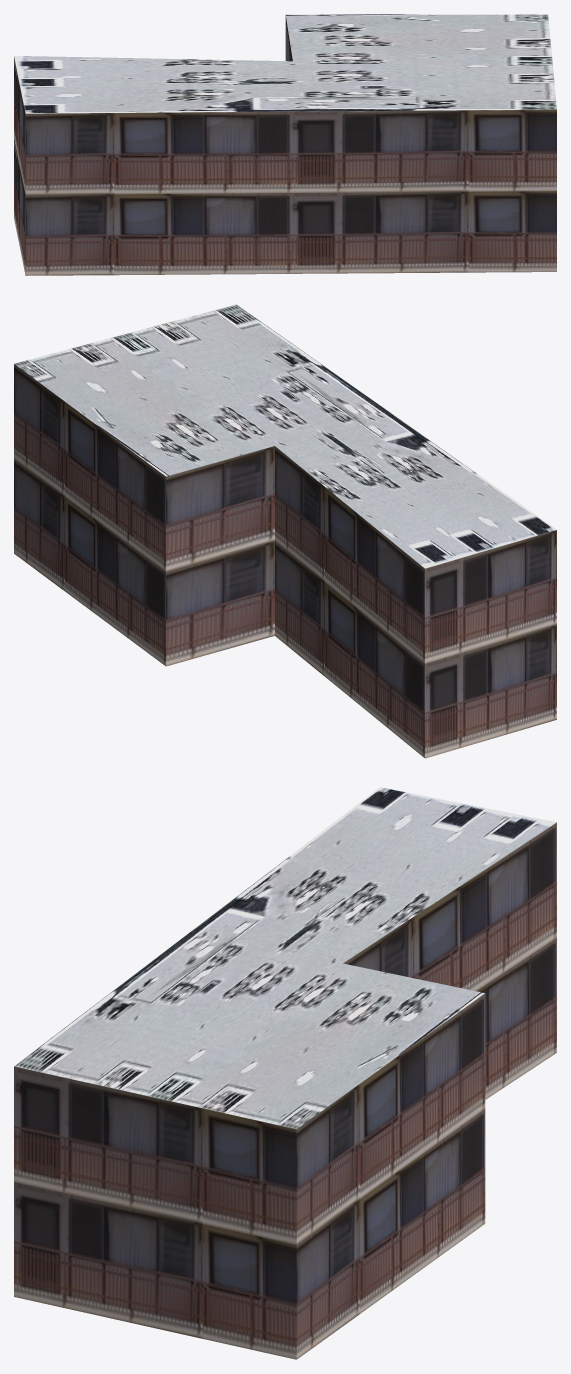
Rendered from ResTex__434.fbx.
The picture shows the model from 3 angles, top to bottom: view 1: azimuth 30°, elevation 25°; view 2: azimuth 150°, elevation 25°; view 3: azimuth 270°, elevation 25°; orthographic projection. The views are drawn at different scales.
Visible parts, largest first — view 1: CityEngineMaterial_6_m, CityEngineMaterial_4_m; view 2: CityEngineMaterial_6_m, CityEngineMaterial_4_m; view 3: CityEngineMaterial_6_m, CityEngineMaterial_4_m.
Part boxes in pixels (x1,y1,x2,y2): CityEngineMaterial_6_m: (14,15,556,275); CityEngineMaterial_4_m: (14,14,556,113); CityEngineMaterial_6_m: (14,364,556,758); CityEngineMaterial_4_m: (14,304,556,568); CityEngineMaterial_6_m: (14,822,556,1359); CityEngineMaterial_4_m: (14,787,556,1129).
Size of the model in its own units: 19.09 by 6 by 12.81.
Materials: 2 (2 with a texture image).
